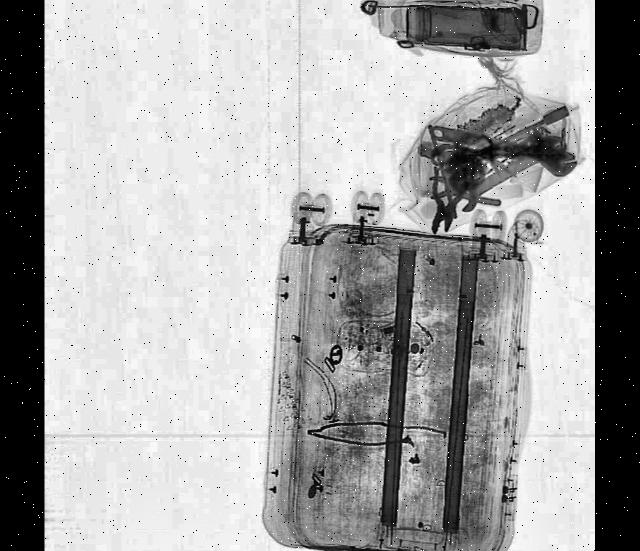Pliers: (421, 165, 470, 242)
Wrench: (453, 131, 568, 218), (428, 118, 579, 181)
